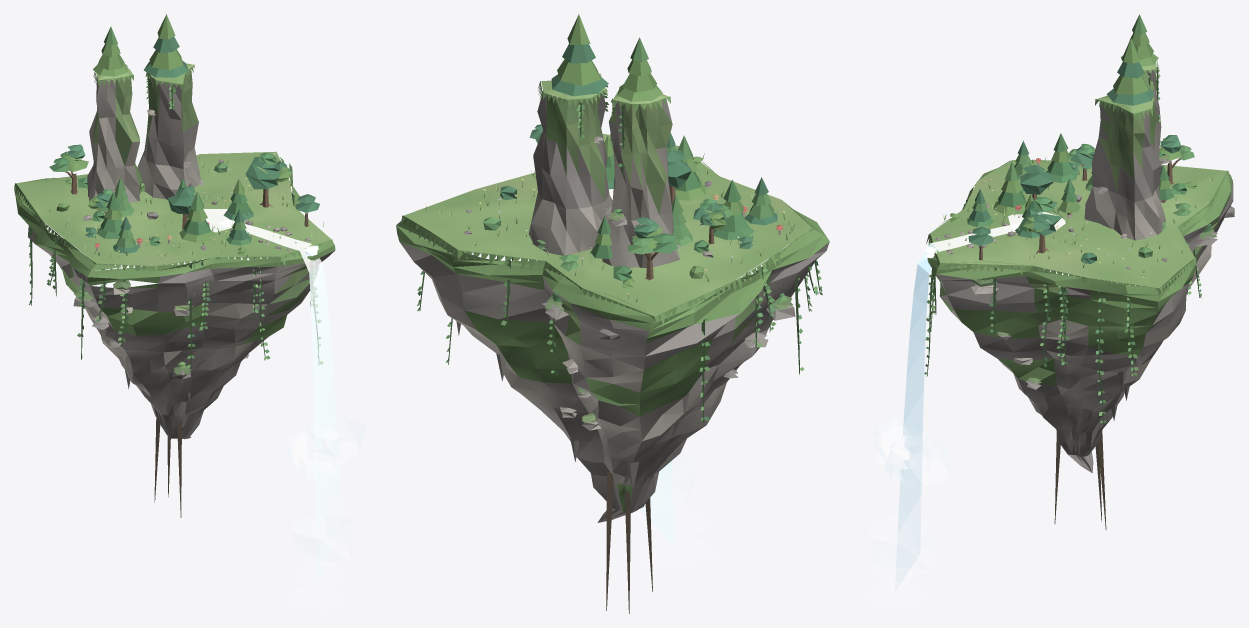
File: dng_up.glb
3 renders of one model, left to right at view 1: azimuth 30°, elevation 25°; view 2: azimuth 150°, elevation 25°; view 3: azimuth 270°, elevation 25°, orthographic. The views are drawn at different scales.
Visible parts, largest first — view 1: Island_Large; view 2: Island_Large; view 3: Island_Large.
Boxes of the visible parts, box(x1,y1,x2,y2) form: Island_Large: box(14, 14, 366, 612); Island_Large: box(396, 14, 829, 613); Island_Large: box(869, 14, 1234, 606).
Size of the model in its own units: 20.2 by 37.85 by 23.38.
